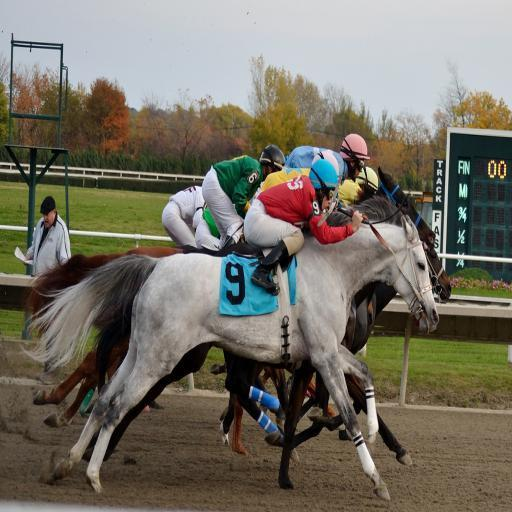horse: (19, 164, 453, 504)
